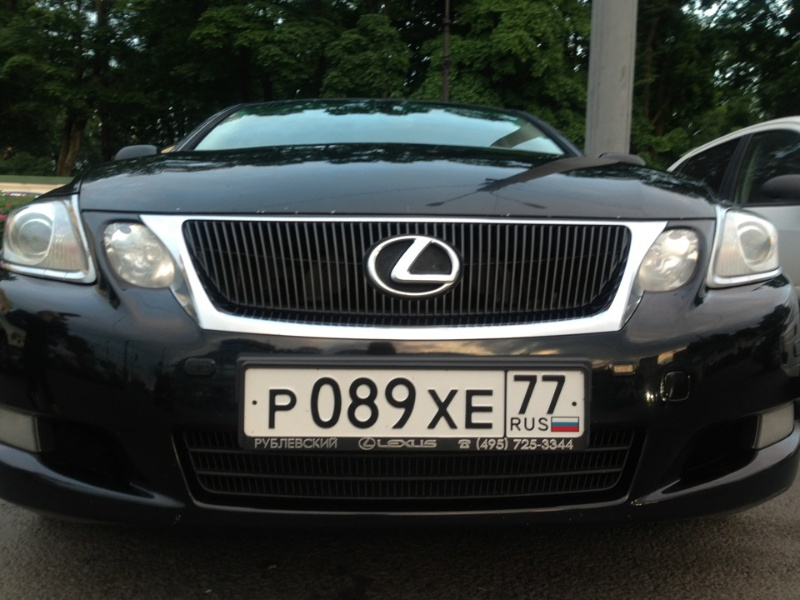car: (1, 101, 800, 537)
plate: (245, 368, 585, 435)
